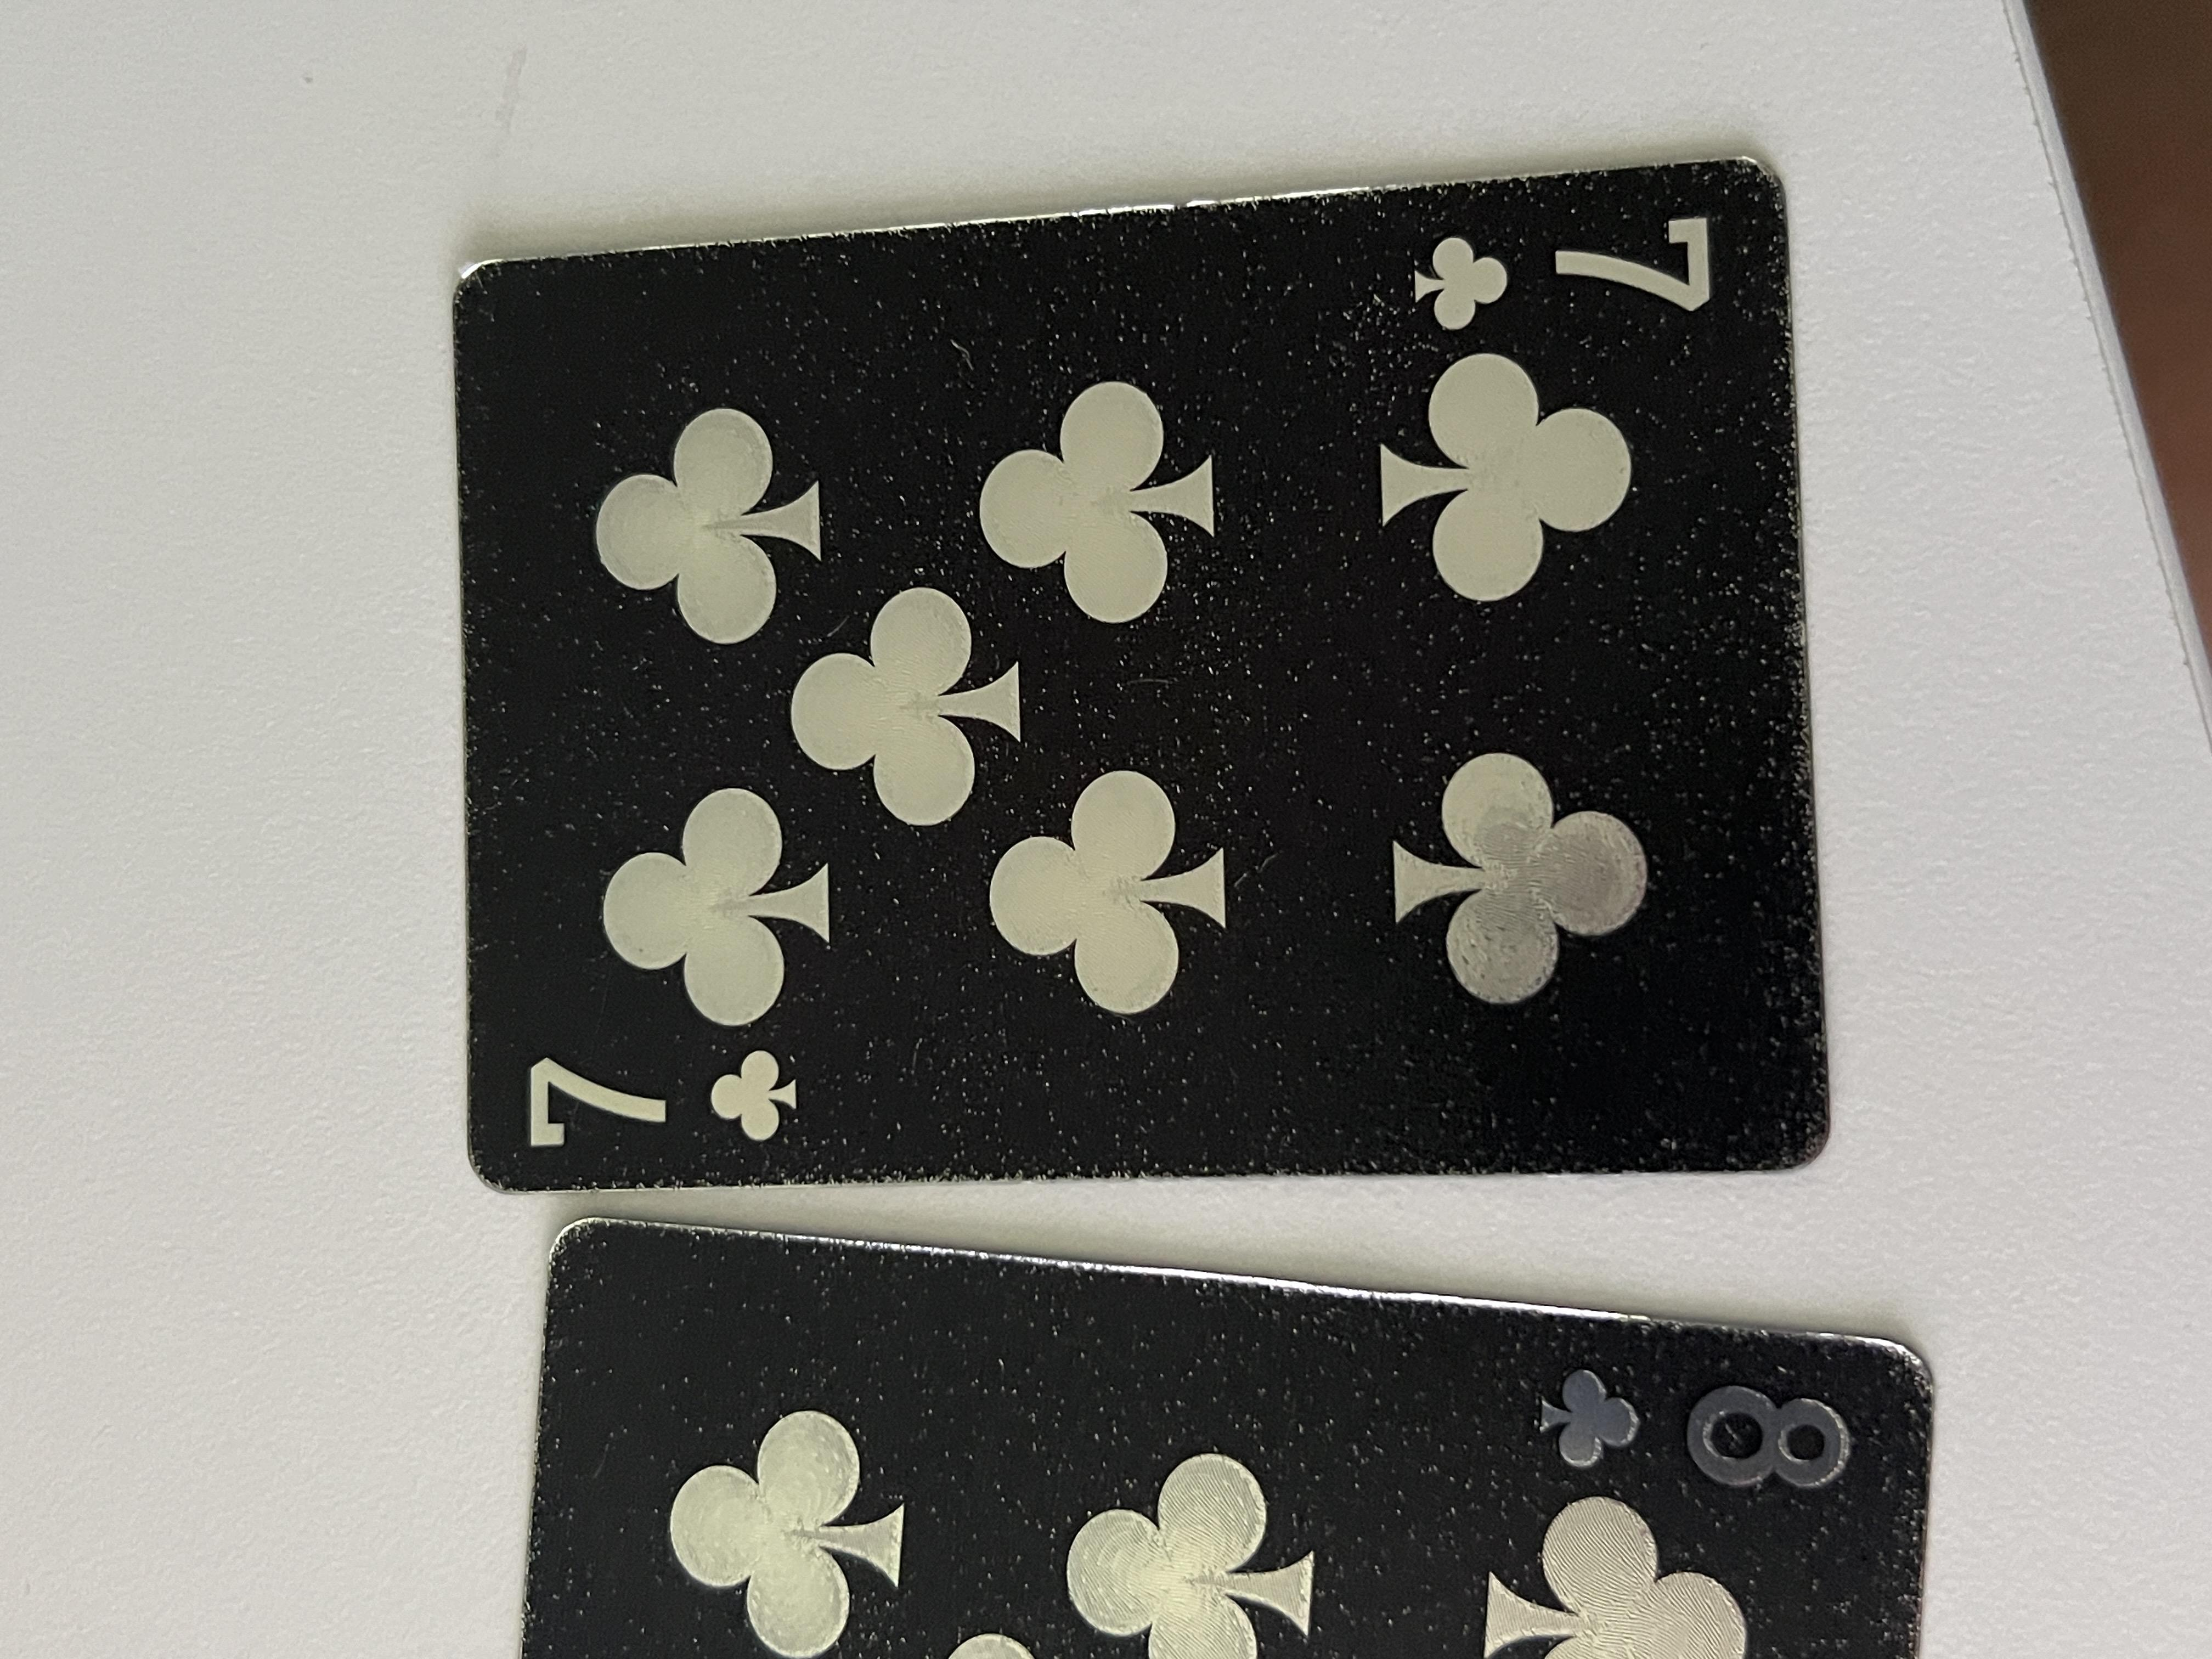7C: (1759, 1051, 1956, 1298), (651, 380, 841, 612)
8C: (223, 1147, 402, 1399)
